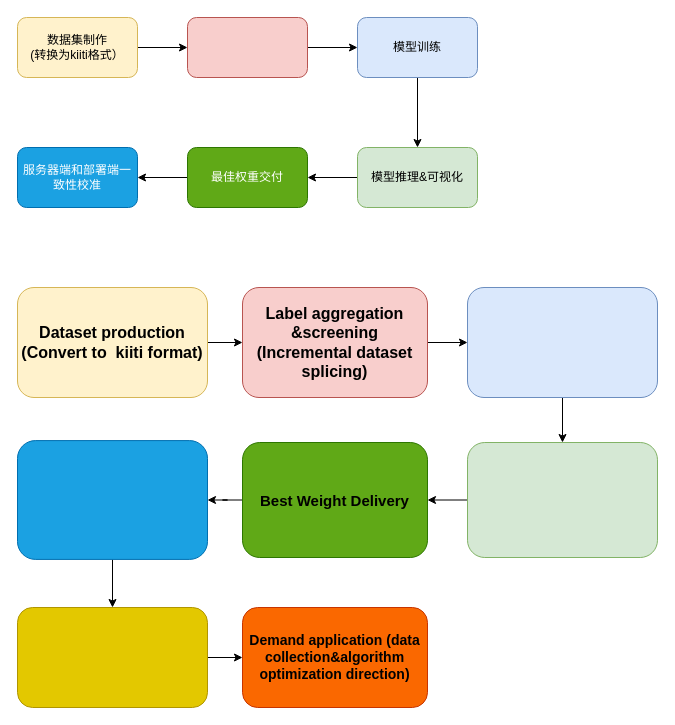
This 675x725 diagram has some shape labels left out. Here are the shapes that lost their labels. From the top down, the centre of each, then its label:
At point 247,47: "label聚合&筛选 （增量式数据集拼接）".
At point 562,342: "Model Training".
At point 112,499: "Consistency verification on GPU and Orin".
At point 562,500: "Inference &Visualization".
At point 112,657: "Corner Case &Data backtracking".
